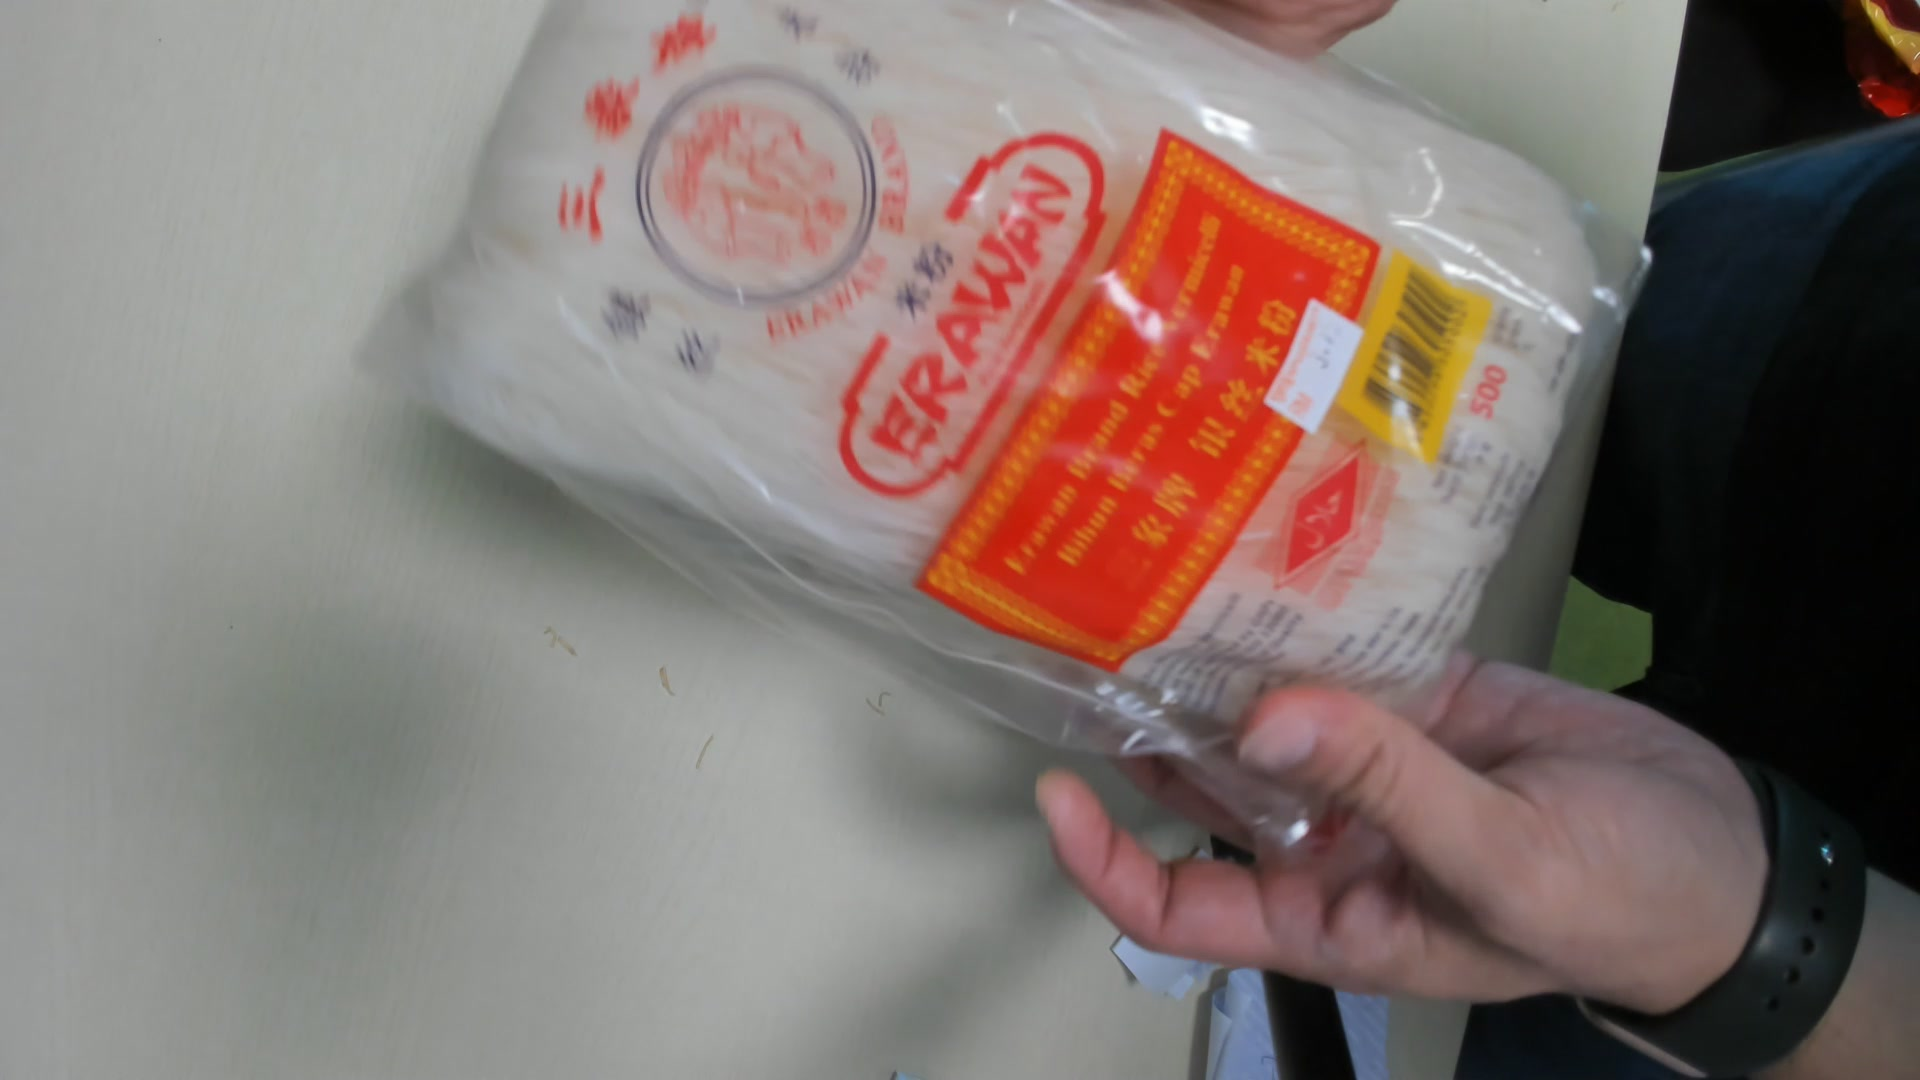BeeHoonVermicelli_500-599g_Halal_NonHealthy: (386, 7, 1665, 852)
